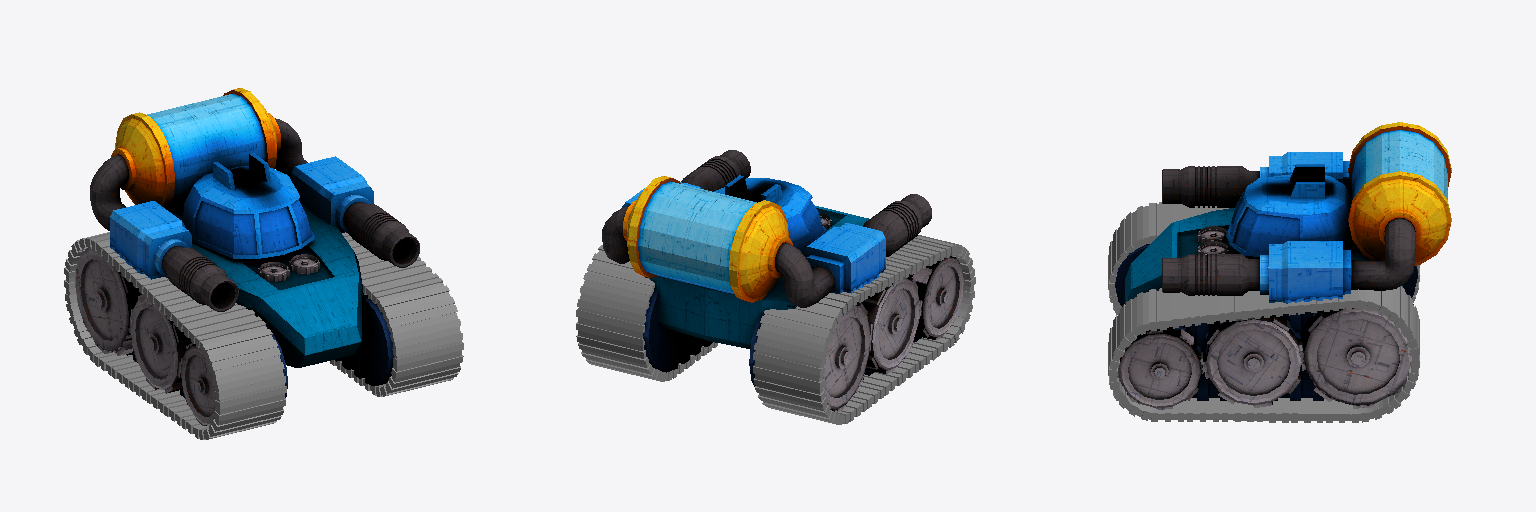
3 renders of one model, left to right at view 1: azimuth 30°, elevation 25°; view 2: azimuth 150°, elevation 25°; view 3: azimuth 270°, elevation 25°, orthographic.
Visible parts, largest first — view 1: Object001, Box042, Object004, Object003, Object002; view 2: Object001, Box042, Object003, Object004, Object002; view 3: Object001, Box042, Object004, Object003, Object002.
Part boxes in pixels (x1,y1,x2,y2): Object001: (90,88,419,397); Box042: (64,232,463,439); Object004: (75,248,141,355); Object003: (130,294,190,393); Object002: (180,343,216,425); Object001: (602,150,931,386); Box042: (576,235,975,424); Object003: (864,277,920,373); Object004: (823,302,870,412); Object002: (912,256,963,339); Object001: (1115,122,1451,400); Box042: (1108,202,1419,422); Object004: (1300,308,1411,408); Object003: (1202,315,1302,407); Object002: (1117,327,1203,409).
Bounding box in the file's own units: 121 × 101 × 147.
2 materials, 1 textured.